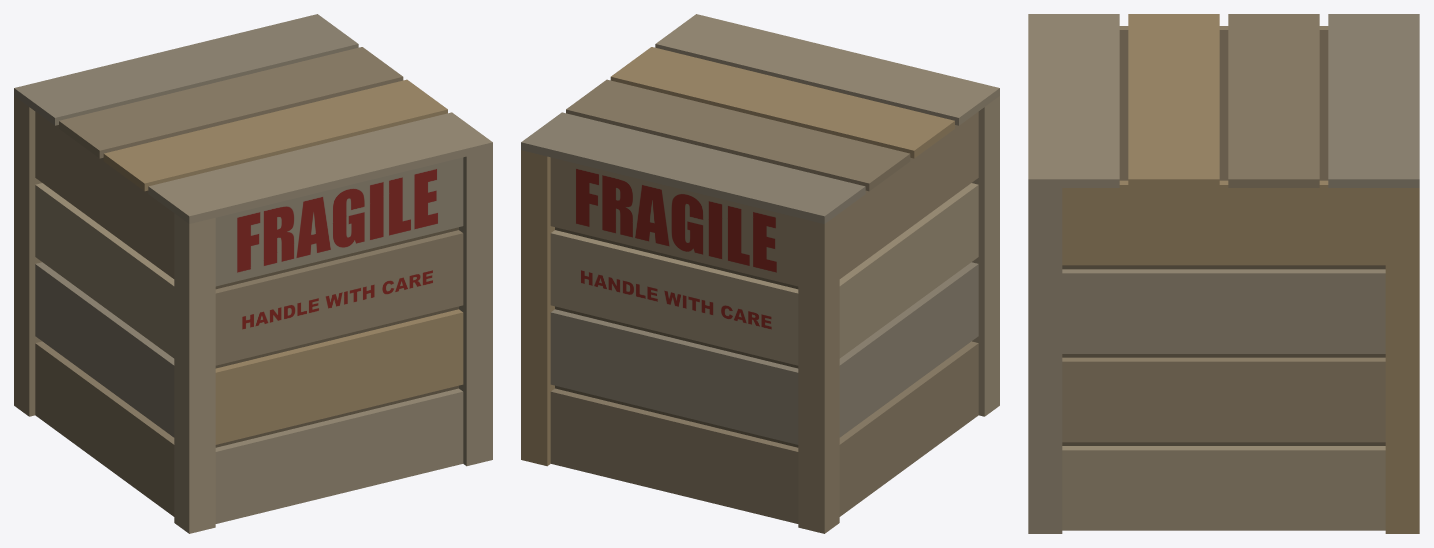
File: large-crate-fragile.glb
3 renders of one model, left to right at view 1: azimuth 30°, elevation 25°; view 2: azimuth 150°, elevation 25°; view 3: azimuth 270°, elevation 25°, orthographic. The views are drawn at different scales.
Parts seen in each view (by area): view 1: large-crate-fragile; view 2: large-crate-fragile; view 3: large-crate-fragile.
Boxes of the visible parts, <box> form: large-crate-fragile: <box>14,14,492,533</box>; large-crate-fragile: <box>521,14,999,533</box>; large-crate-fragile: <box>1028,14,1419,533</box>.
Size of the model in its own units: 0.81 by 0.81 by 0.81.
Materials: 1 (1 with a texture image).
